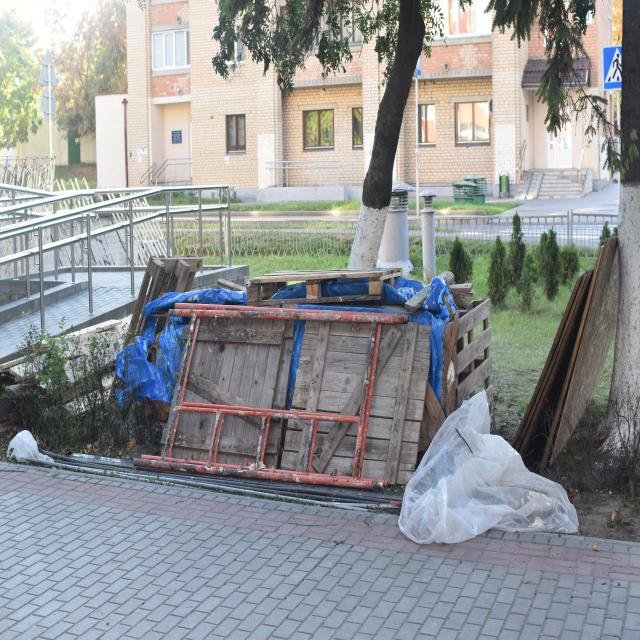entulho: (139, 295, 436, 507), (506, 228, 624, 486), (395, 395, 582, 546), (0, 305, 142, 429), (422, 274, 497, 442), (112, 242, 202, 357), (240, 264, 408, 313), (201, 274, 260, 310), (6, 430, 56, 464)
